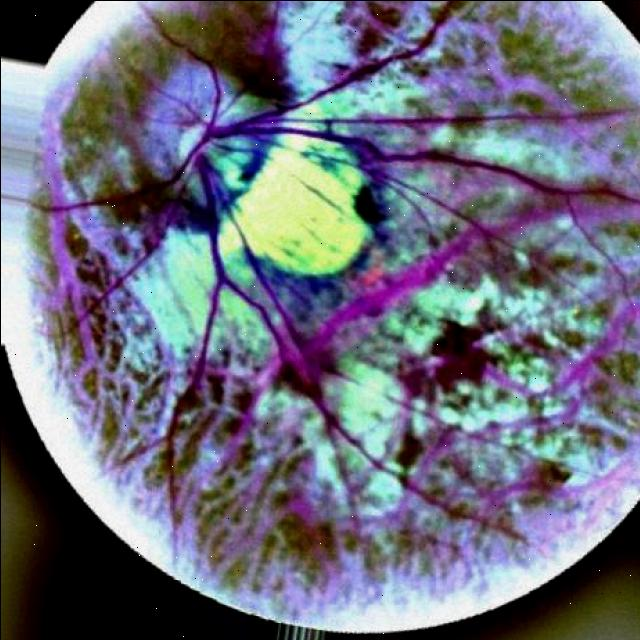Macula: (356, 178, 418, 297)
Nerves: (162, 154, 297, 431), (213, 0, 463, 126), (26, 128, 207, 212)
Optic Disk: (139, 67, 270, 230)
